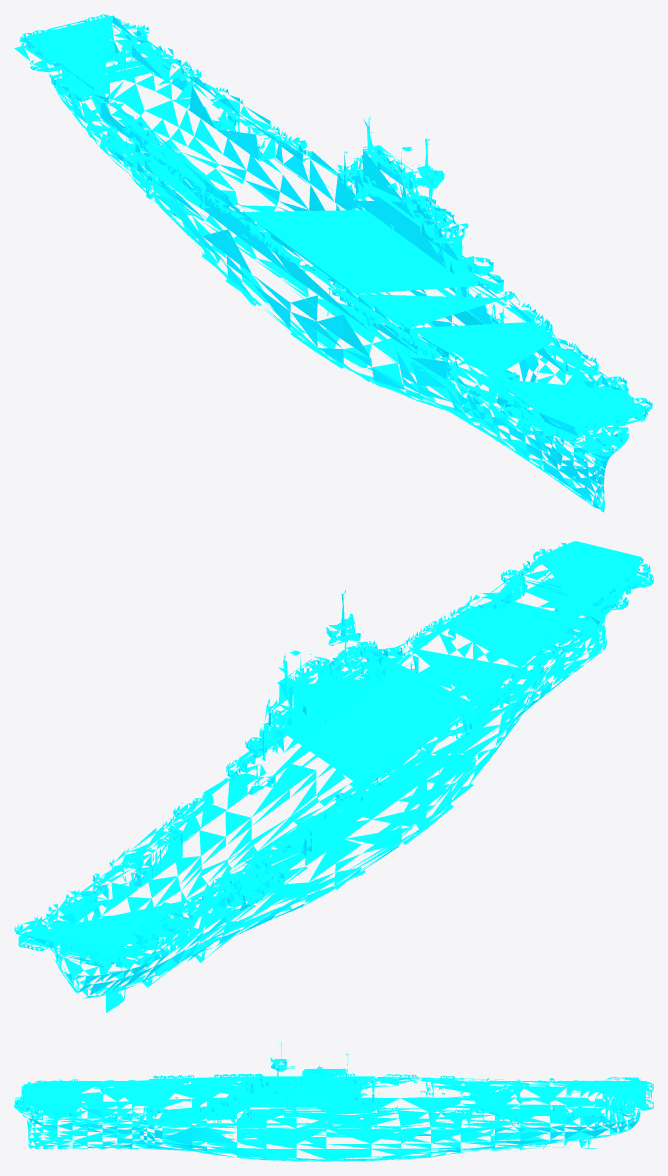
Rendered from Enterprise.glb.
The picture shows the model from 3 angles, top to bottom: view 1: azimuth 30°, elevation 25°; view 2: azimuth 150°, elevation 25°; view 3: azimuth 270°, elevation 25°; orthographic projection. The views are drawn at different scales.
Bounding box in the file's own units: 2.4 × 3.46 × 16.78.
